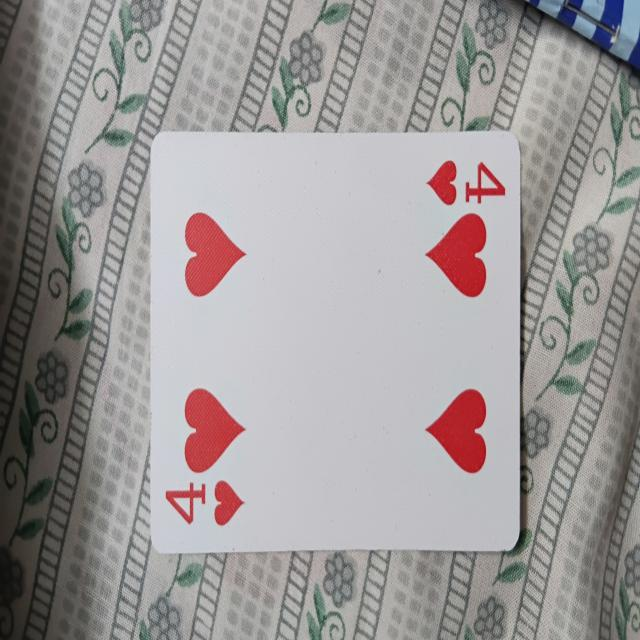4H: (150, 130, 521, 552)
